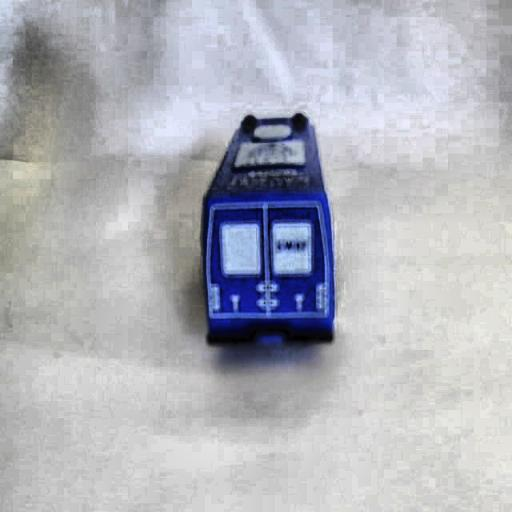police car: (198, 108, 344, 370)
